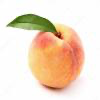Peach leaf: (5, 13, 58, 35)
